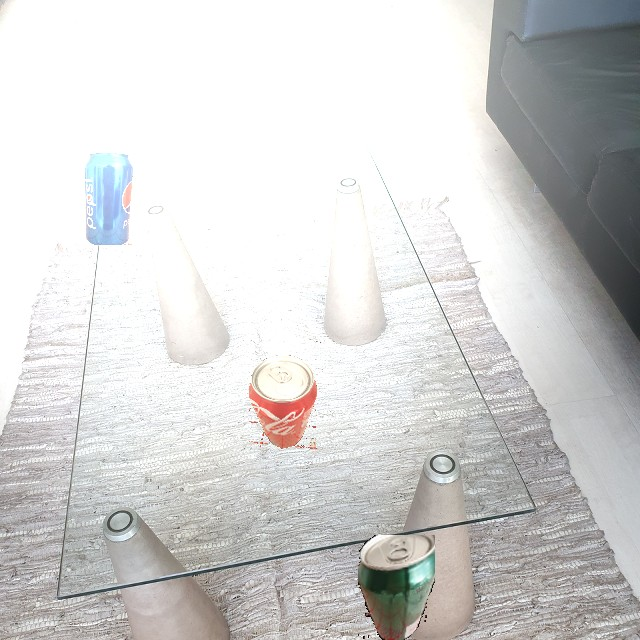coca cola: (248, 355, 317, 449)
pepsi: (85, 151, 133, 245)
schweppes: (358, 535, 435, 640)
